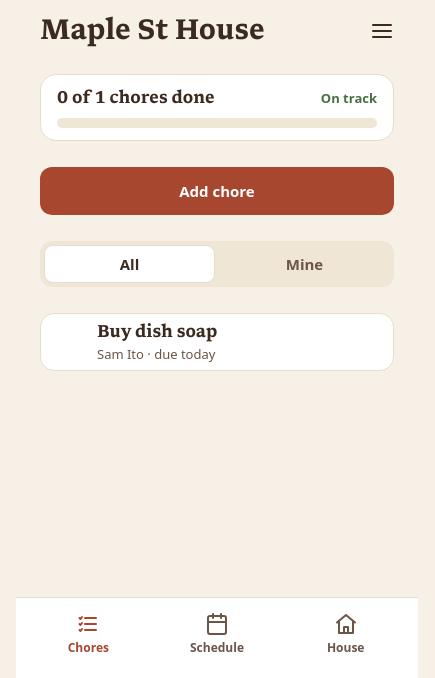
Scenario: Home chore list › shows the empty state for Mine
Click the radio button labelled "Mine": point(304, 264) [219,245,390,283]
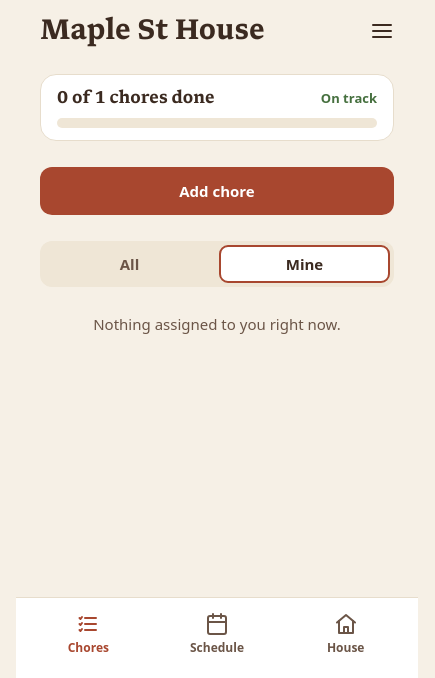
Now the text "Nothing assigned to you right now." is shown, box [93,314,341,334]
